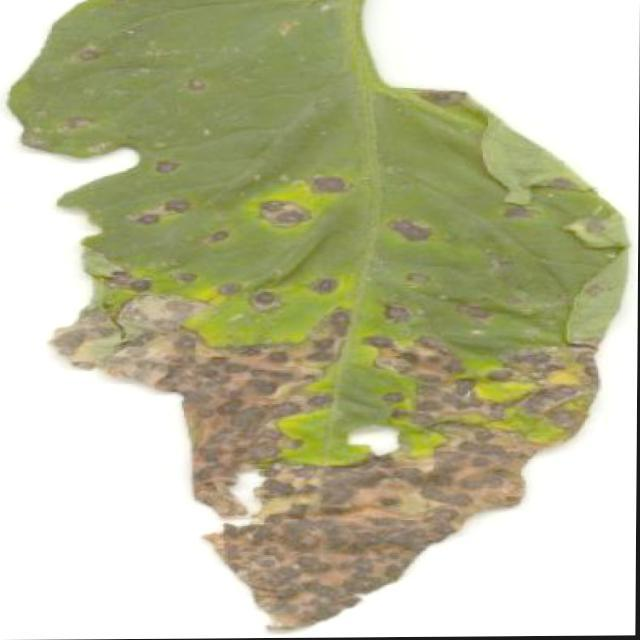Tomato Septoria spot leaf: (24, 0, 638, 638)
